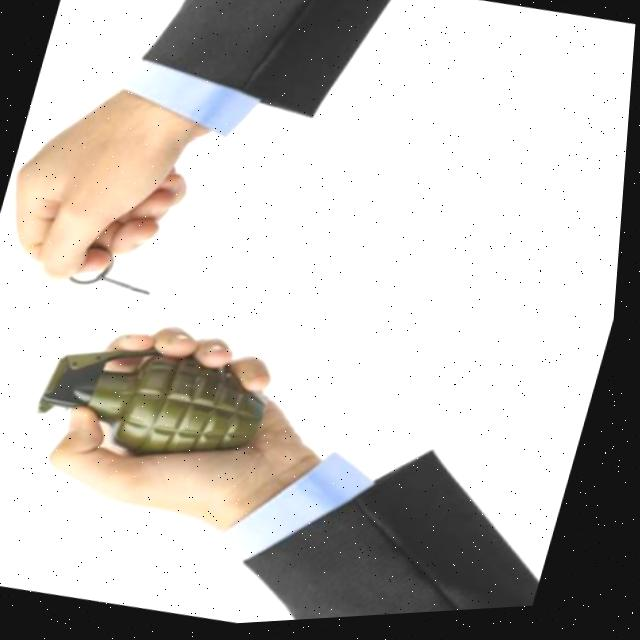grenade: (3, 267, 306, 523)
